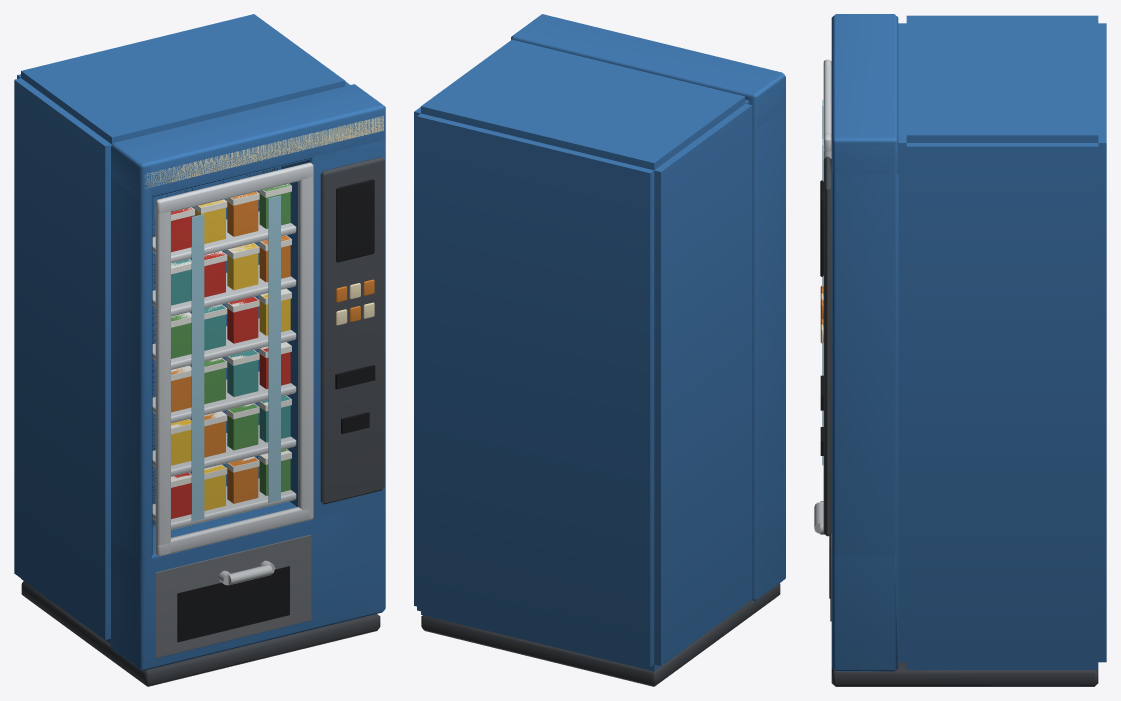
The model's file is VendingMachine_Snack_01.glb.
The picture shows the model from 3 angles, left to right: view 1: azimuth 30°, elevation 25°; view 2: azimuth 150°, elevation 25°; view 3: azimuth 270°, elevation 25°; orthographic projection. The views are drawn at different scales.
Parts seen in each view (by area): view 1: SM_VendingMachine_Snack_01; view 2: SM_VendingMachine_Snack_01; view 3: SM_VendingMachine_Snack_01.
Boxes of the visible parts, box(x1,y1,x2,y2) form: SM_VendingMachine_Snack_01: box(14, 14, 385, 686); SM_VendingMachine_Snack_01: box(414, 14, 785, 686); SM_VendingMachine_Snack_01: box(814, 14, 1106, 686).
Bounding box in the file's own units: 0.9 × 1.83 × 0.8775.
Materials: 1 (1 with a texture image).
